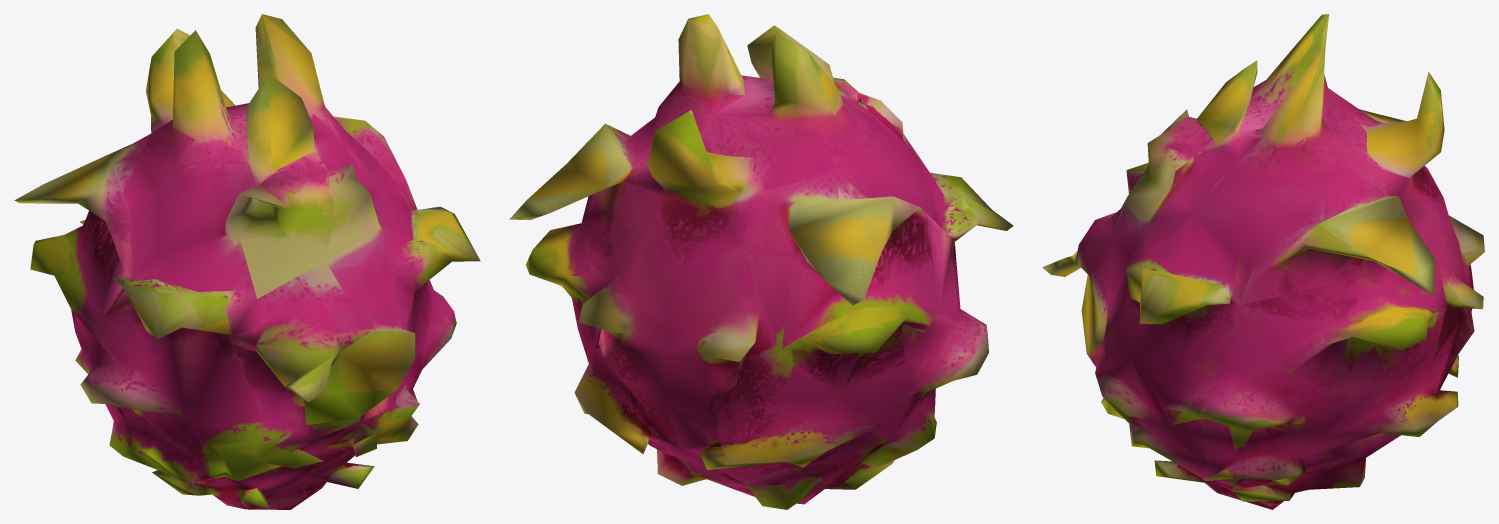
File: dragonfruitLP.fbx
The picture shows the model from 3 angles, left to right: view 1: azimuth 30°, elevation 25°; view 2: azimuth 150°, elevation 25°; view 3: azimuth 270°, elevation 25°; orthographic projection. The views are drawn at different scales.
Parts seen in each view (by area): view 1: dragonfruit; view 2: dragonfruit; view 3: dragonfruit.
Part boxes in pixels (left/top/right/bottom): dragonfruit: left=14, top=14, right=480, bottom=509; dragonfruit: left=509, top=14, right=1013, bottom=509; dragonfruit: left=1042, top=14, right=1484, bottom=509.
Size of the model in its own units: 6.39 by 7.95 by 6.84.
